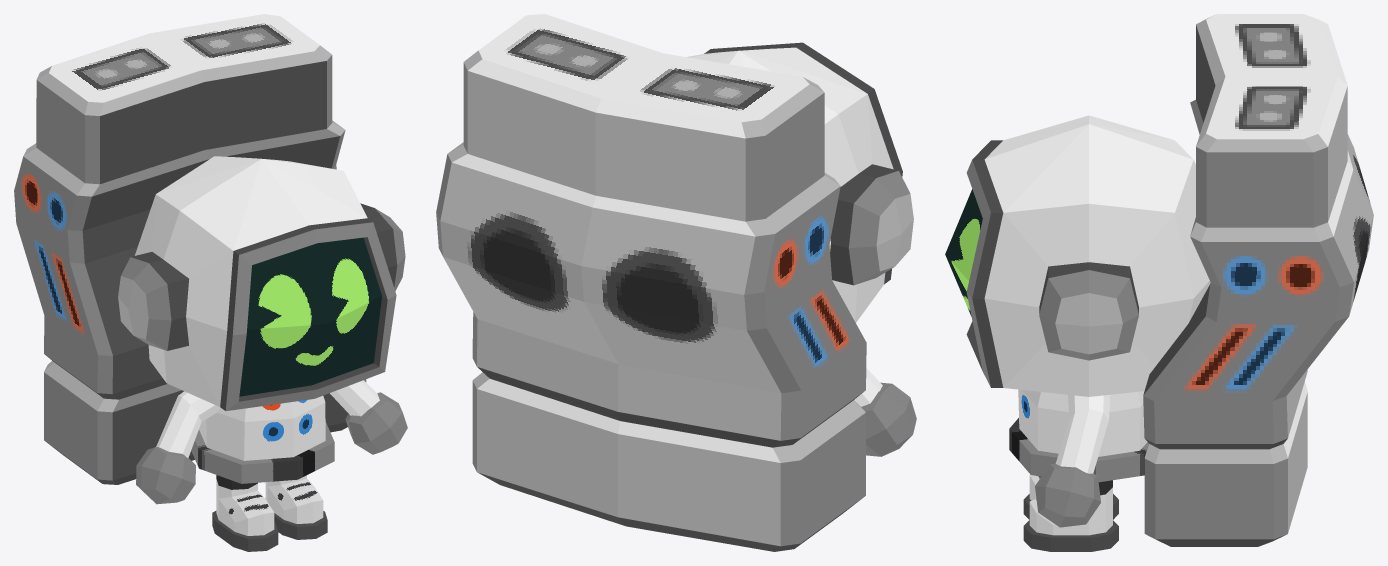
The model's file is Mini2.glb.
3 renders of one model, left to right at view 1: azimuth 30°, elevation 25°; view 2: azimuth 150°, elevation 25°; view 3: azimuth 270°, elevation 25°, orthographic. The views are drawn at different scales.
Parts seen in each view (by area): view 1: Cube.009, Cube.006, Cube.007, Cylinder.004, Cylinder.007, Cube.011, Cube.010, Cylinder.005, Cylinder.006; view 2: Cube.009, Cube.006, Cube.011; view 3: Cube.009, Cube.006, Cube.007, Cylinder.007, Cube.010, Cylinder.006.
Boxes of the visible parts, x1,y1,x2,y2 form: Cube.009: (14,14,366,484); Cube.006: (118,156,405,410); Cube.007: (191,396,334,483); Cylinder.004: (212,475,278,551); Cylinder.007: (265,475,327,539); Cube.011: (136,447,195,504); Cube.010: (345,392,407,454); Cylinder.005: (156,391,220,458); Cylinder.006: (330,380,379,416); Cube.009: (436,14,866,551); Cube.006: (686,42,913,322); Cube.011: (861,382,916,456); Cube.009: (1143,14,1373,546); Cube.006: (945,115,1210,396); Cube.007: (1009,389,1148,482); Cylinder.007: (1023,480,1118,551); Cube.010: (1035,464,1100,527); Cylinder.006: (1055,394,1110,473).
Bounding box in the file's own units: 2 × 2.9 × 2.5.
Materials: 1 (1 with a texture image).
